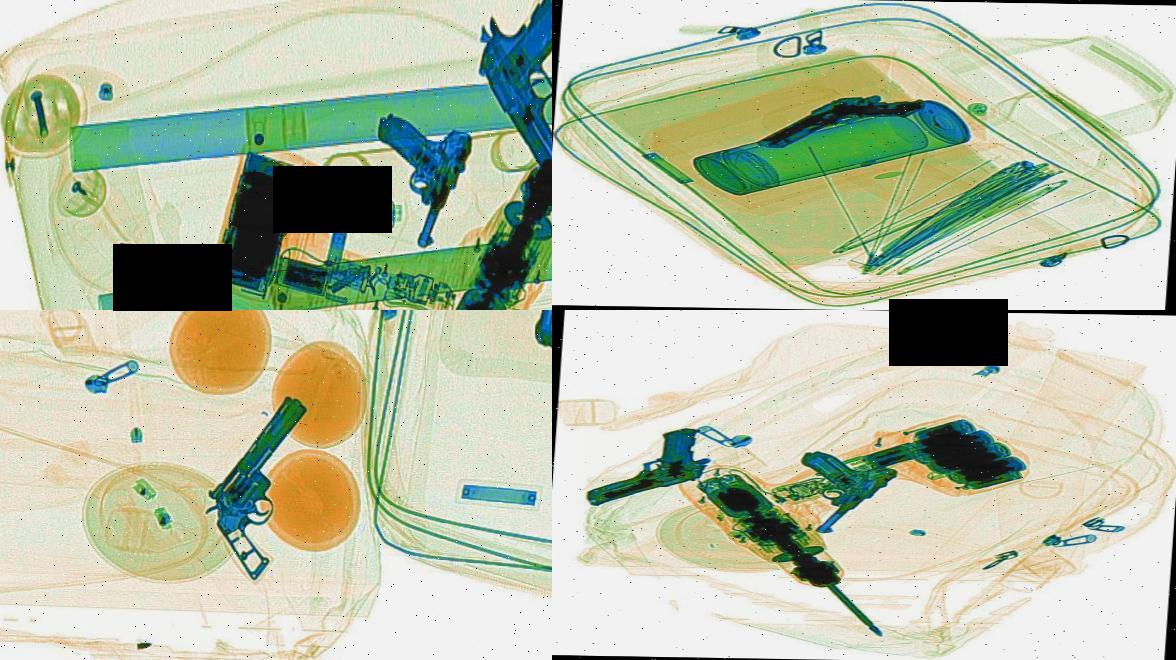Gun: (156, 392, 385, 582), (434, 0, 552, 179), (339, 111, 481, 248), (552, 422, 744, 510), (756, 76, 938, 168), (743, 443, 905, 534)
